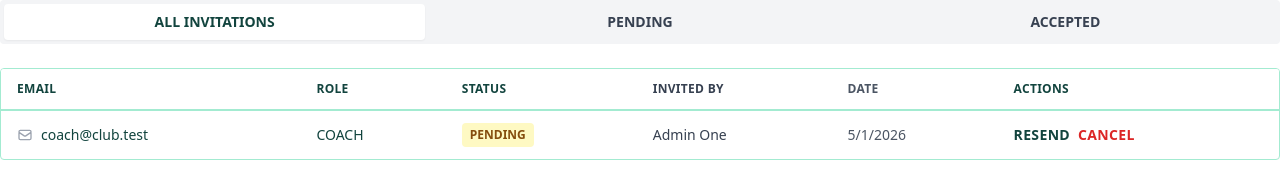
Test case: InvitationDashboard resend/revoke › resend button is disabled while the request is in flight
Click the button "Resend": (1042, 135) [1014,125,1070,145]
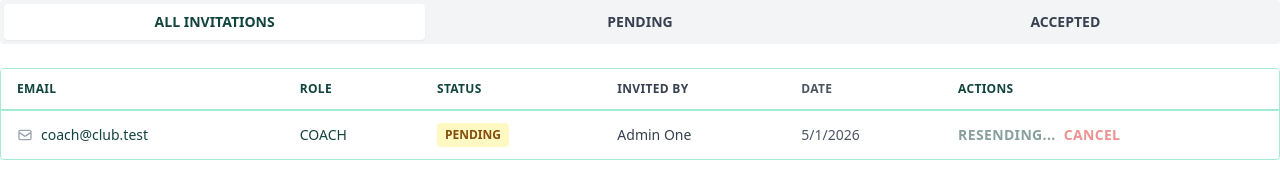
Result: the button "Resending..." is disabled at [958,125,1056,145]
